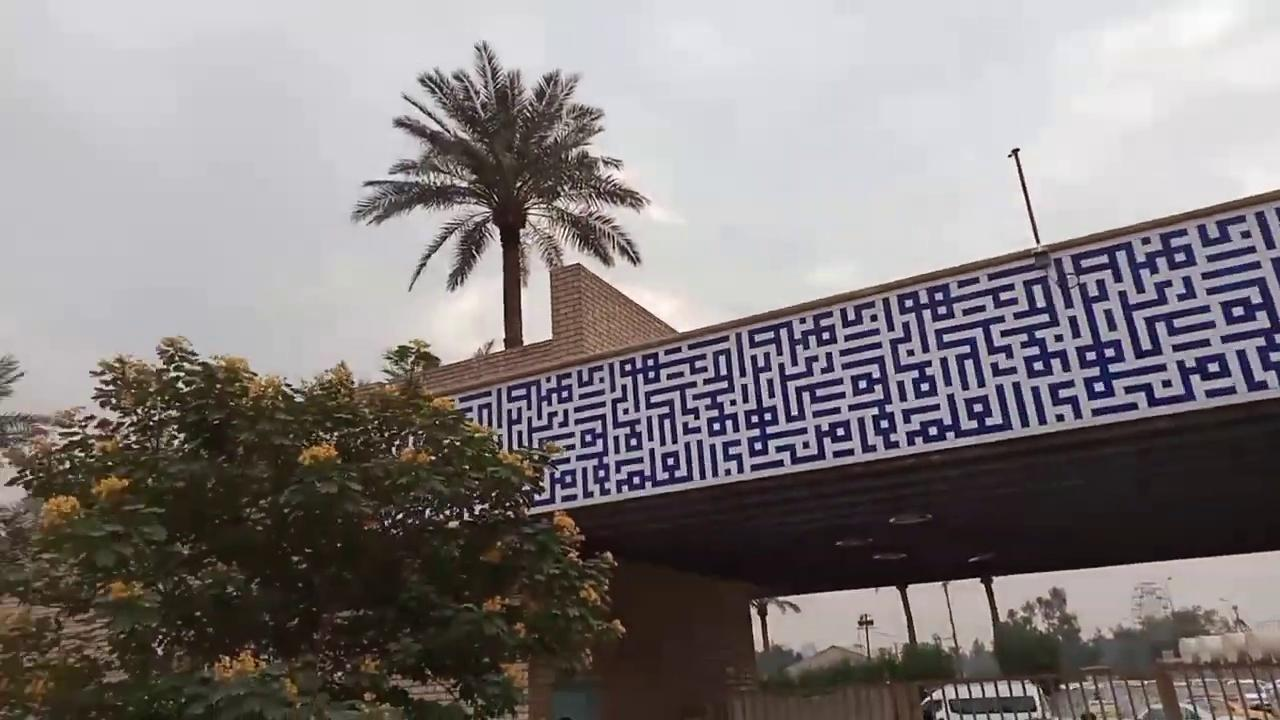car: (1136, 677, 1279, 719), (919, 677, 1054, 719), (927, 694, 1038, 719)
person: (1080, 711, 1097, 719)
tree: (1, 332, 626, 718), (350, 38, 650, 349), (992, 584, 1089, 680), (0, 352, 34, 450), (748, 594, 800, 651)
